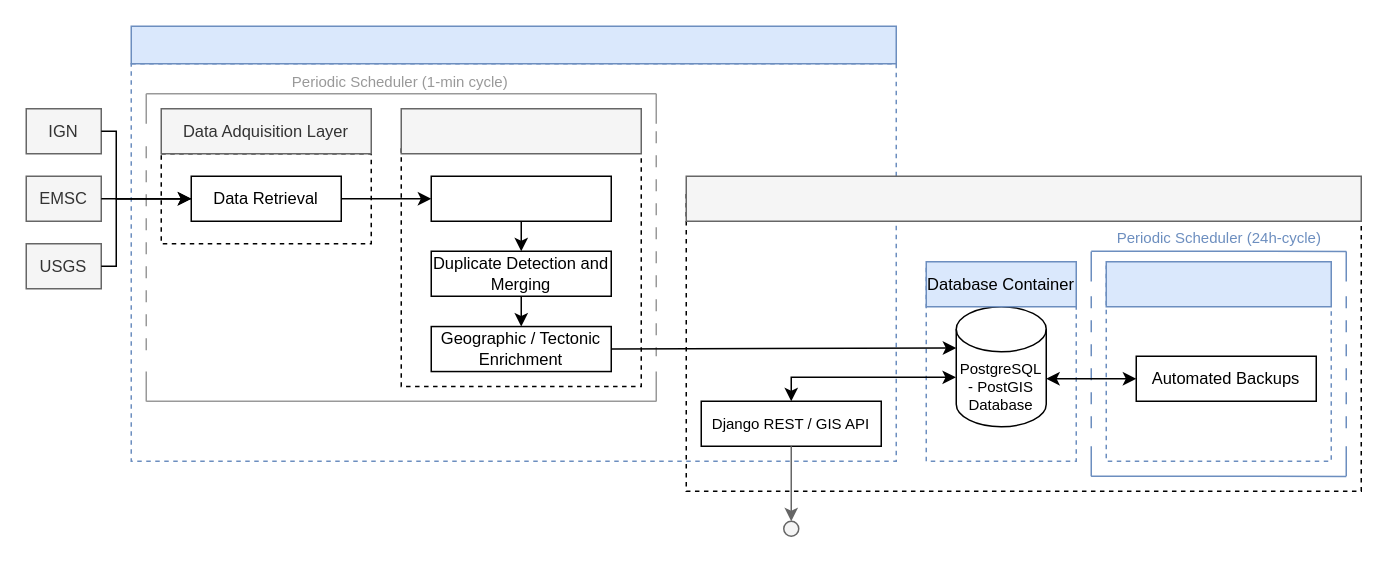
The diagram is 1388 pixels wide and 563 high, and some of its shapes have lost their labels. Here are the shapes that lost their labels. From the top down, the centre of each, then its label:
At pixel 513 44: "Backend Container".
At pixel 520 130: "Data Processing and Integration Layer".
At pixel 520 198: "Normalization and Harmonization".
At pixel 1023 198: "Storage and Access Layer".
At pixel 1218 283: "Backup Container".
